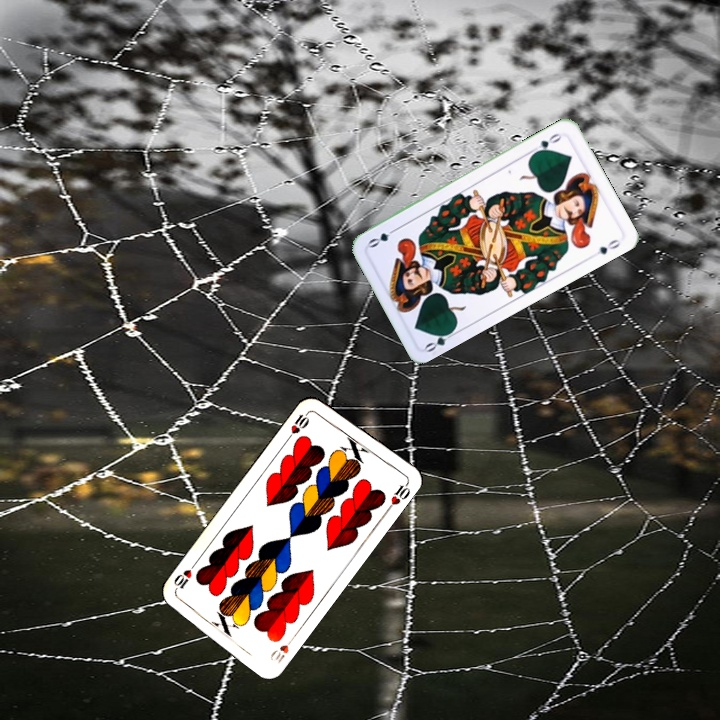GO: (421, 325, 459, 355), (528, 129, 564, 157)
H10: (266, 631, 298, 666), (283, 407, 313, 442)
